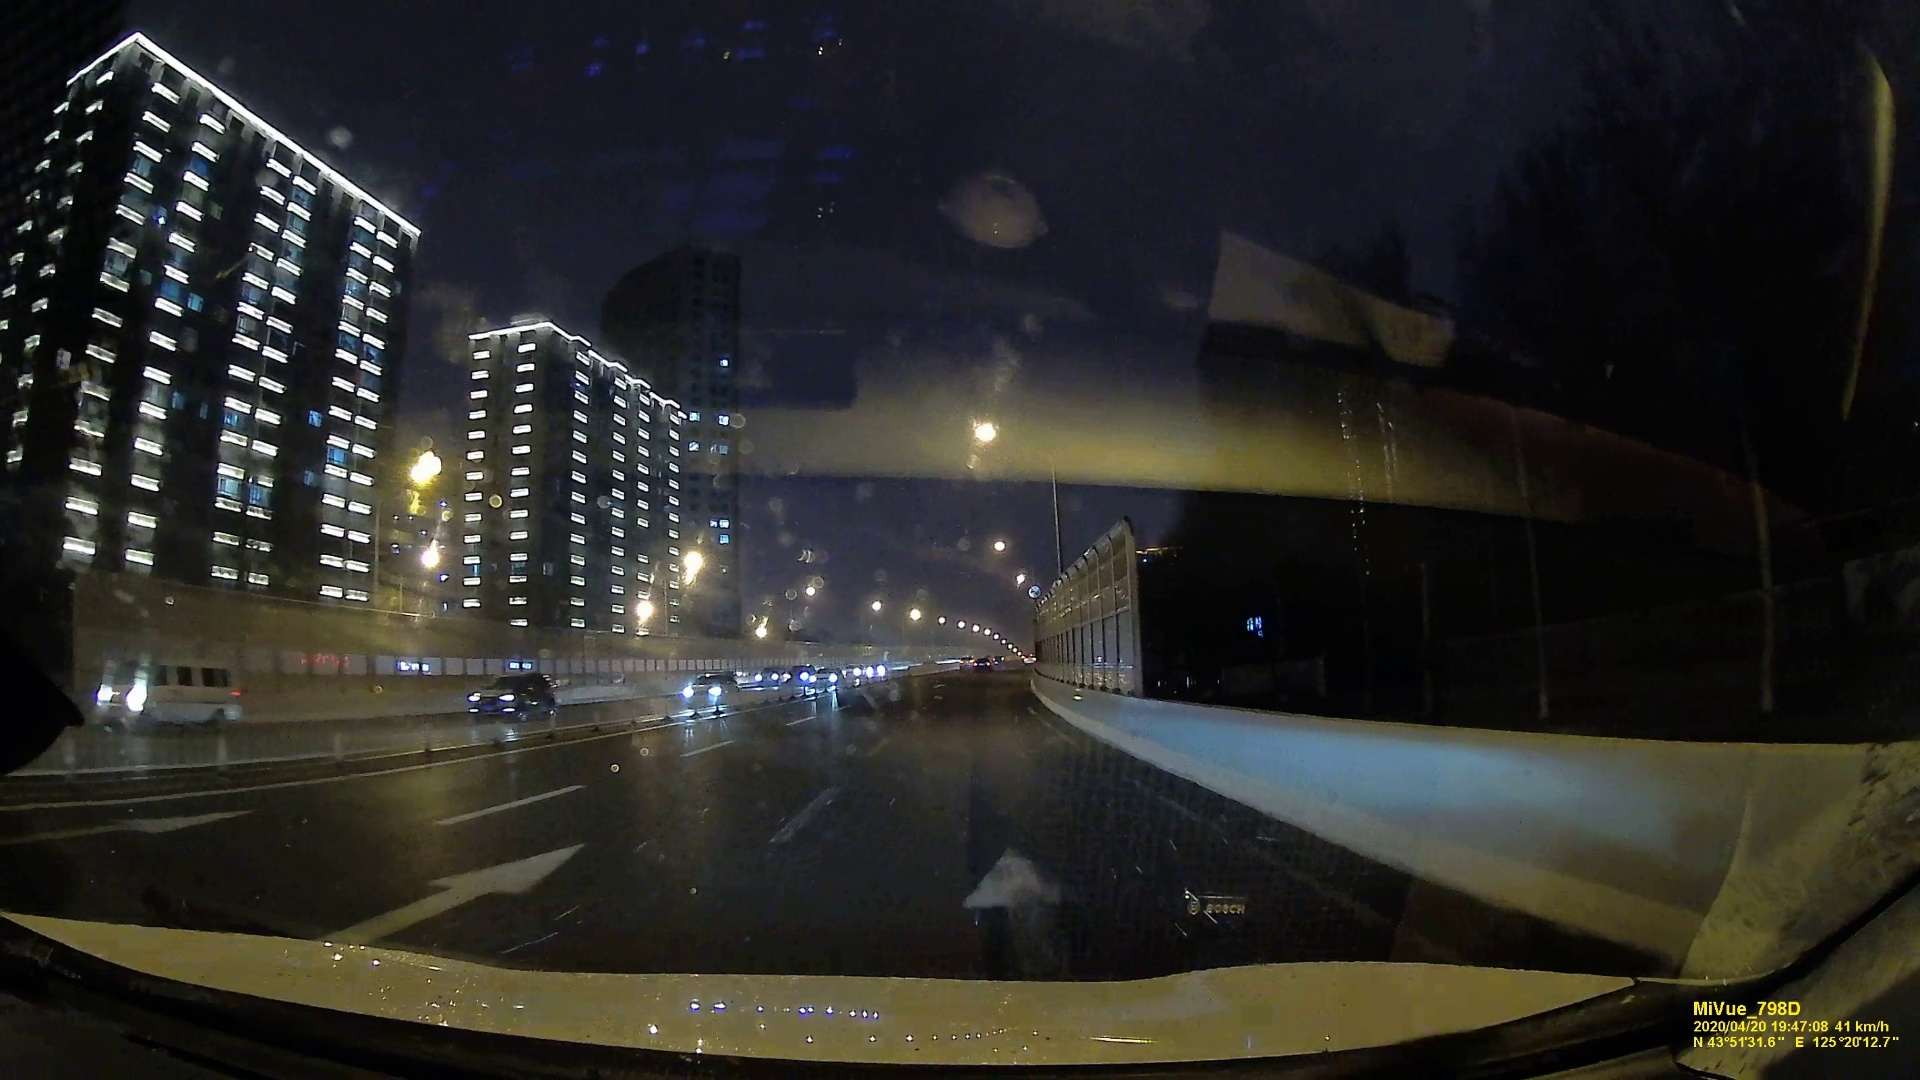minibus: (86, 654, 251, 735)
vehicle: (464, 670, 560, 724), (679, 673, 741, 703)
